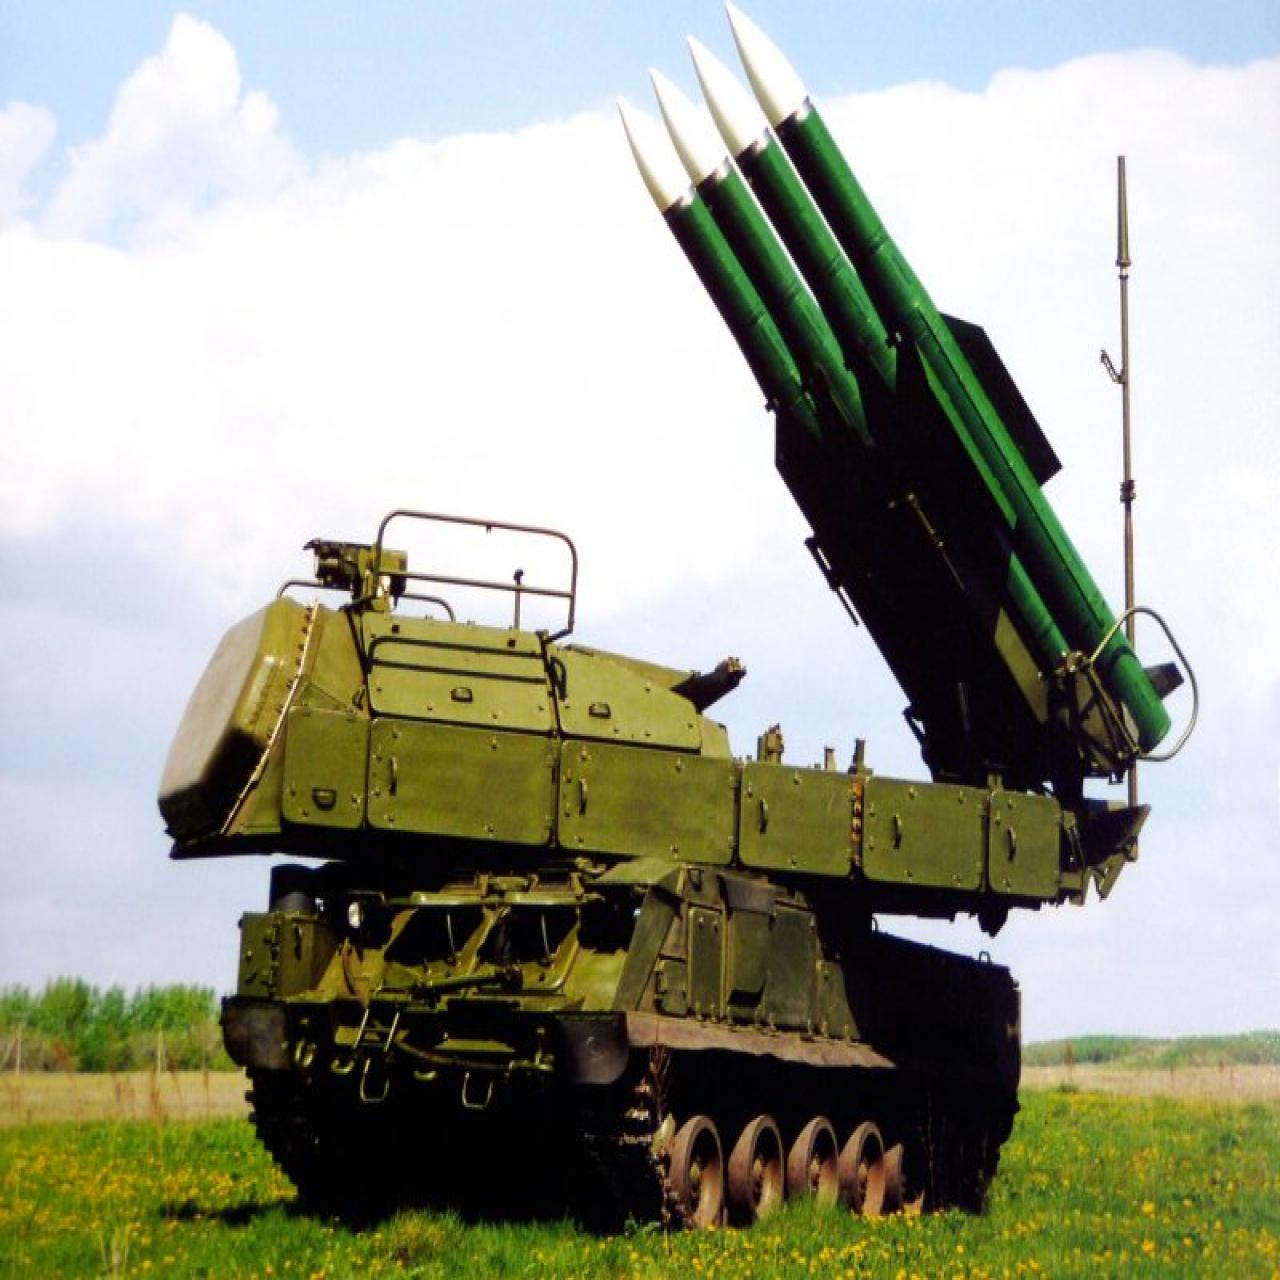MIL_Veh: (173, 14, 1175, 1214)
